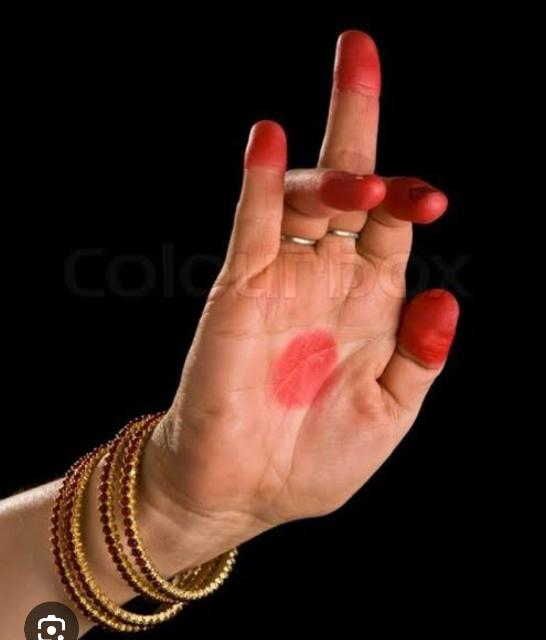shuktund: (168, 32, 459, 524)
